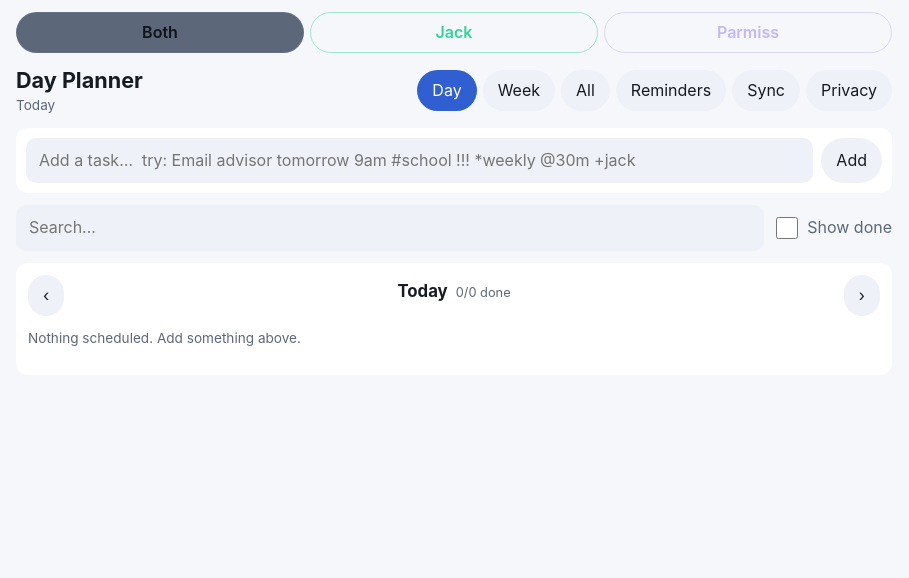
Test: App › exposes sync and backup controls
Click the button "Sync" at (766, 91), box top-left (732, 70), bottom-right (800, 111)
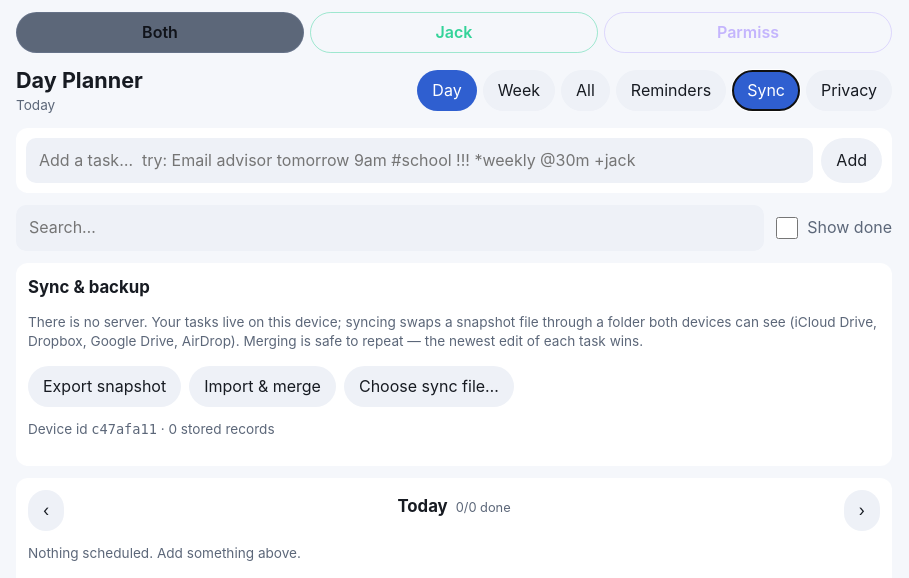
Check: the heading "Sync & backup" is shown, box top-left (28, 277), bottom-right (150, 297)
Check: the button "Export snapshot" is shown, box top-left (28, 366), bottom-right (181, 407)
Check: the button "Import & merge" is shown, box top-left (189, 366), bottom-right (336, 407)
